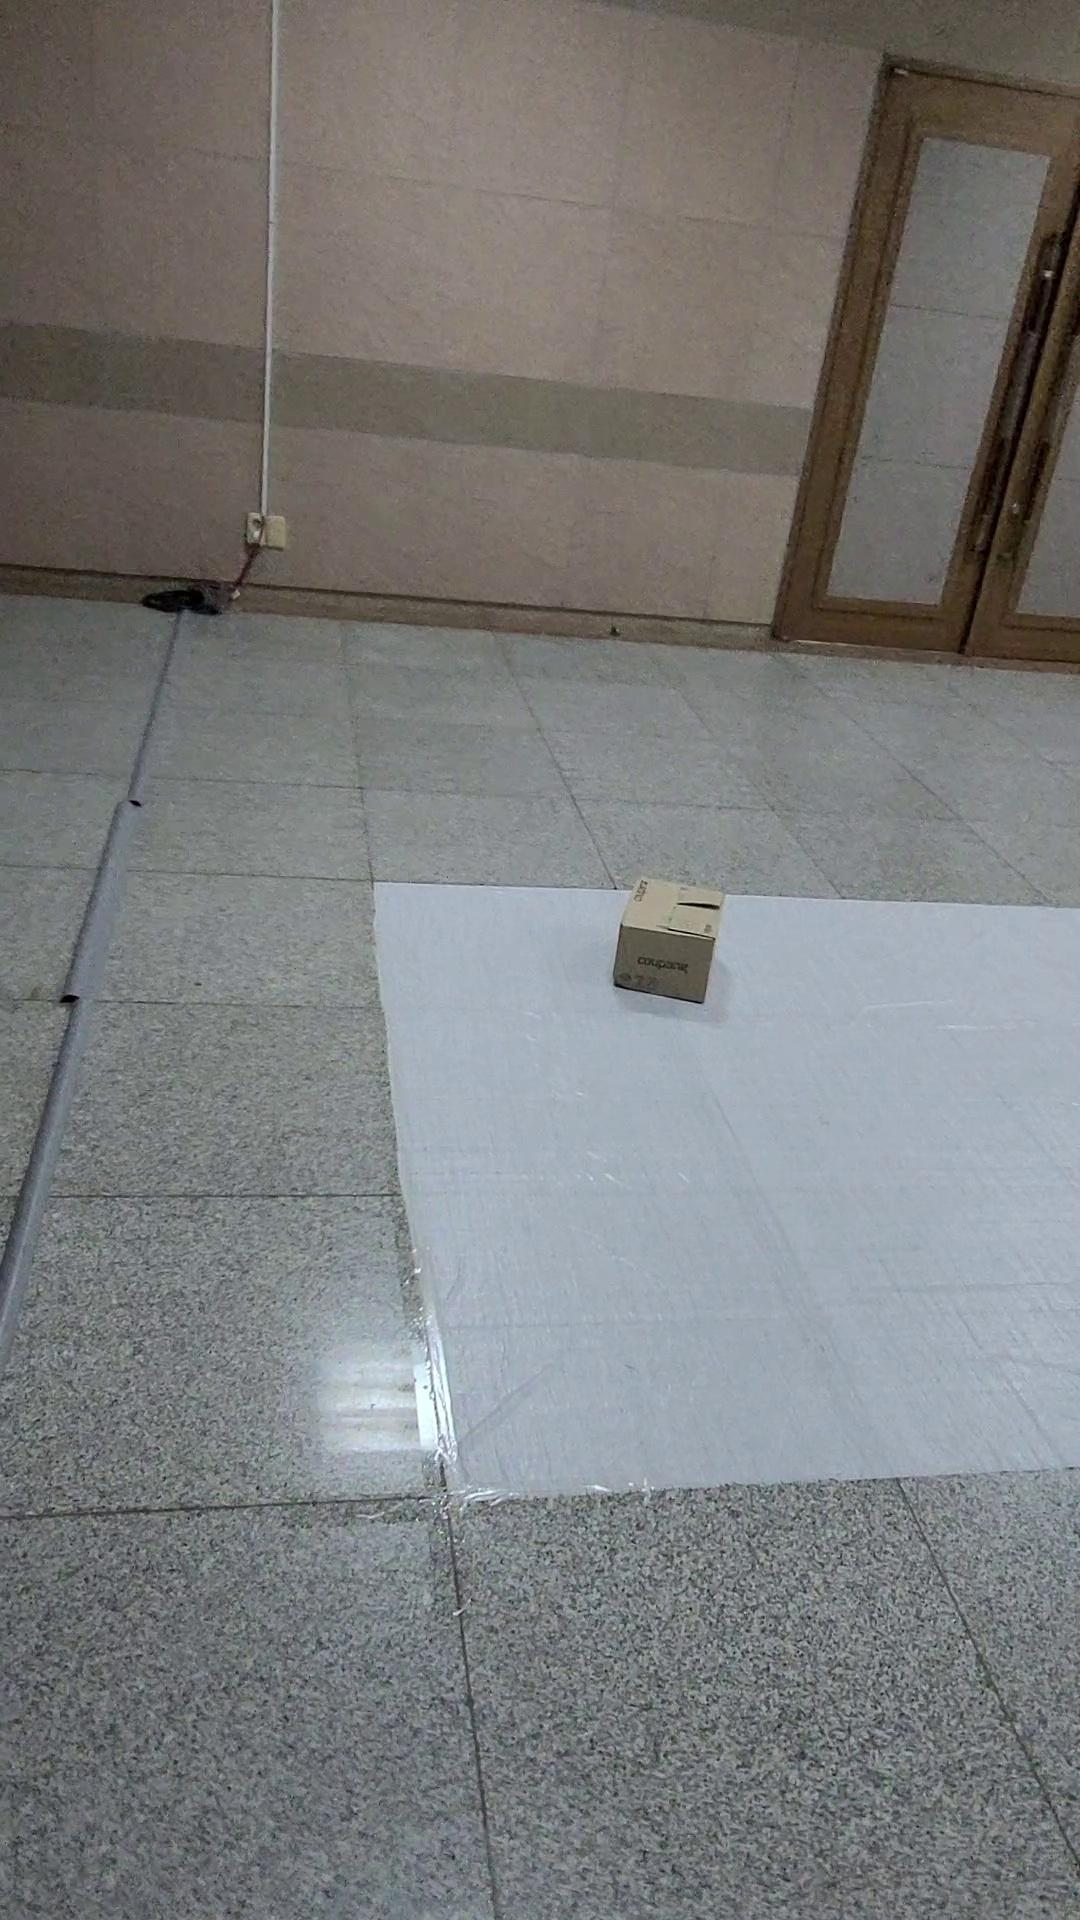Box: (583, 865, 757, 1036)
